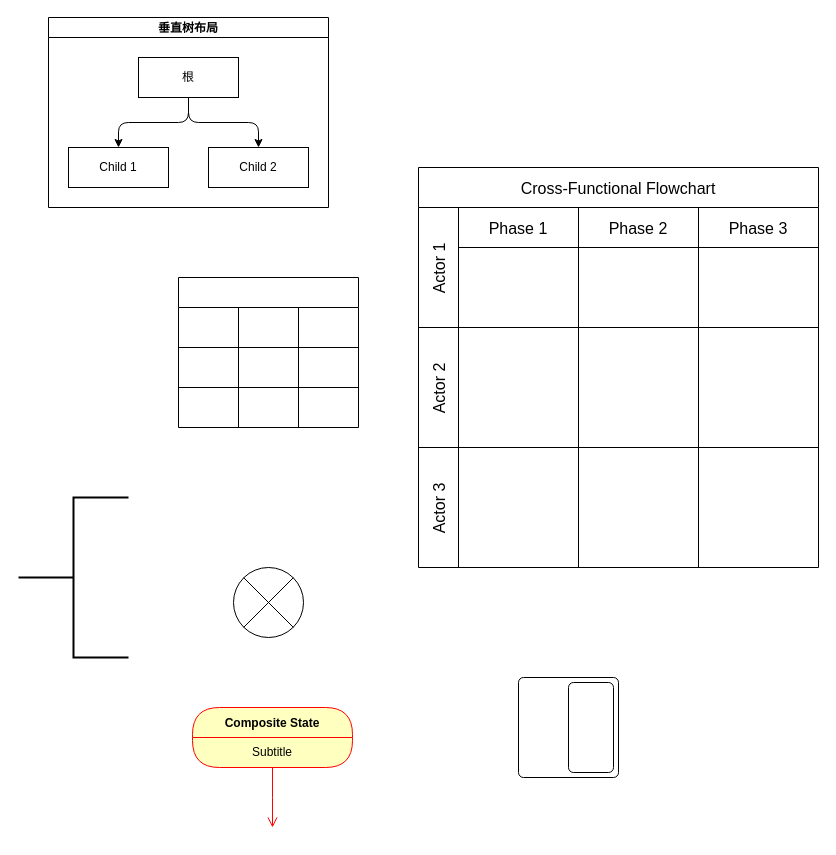
This 836x855 diagram has some shape labels left out. Here are the shapes that lost their labels. From the top down, the centre of each, then its label:
At pixel 268 352: "Table".
At pixel 543 727: "main".
At pixel 591 727: "sub".
